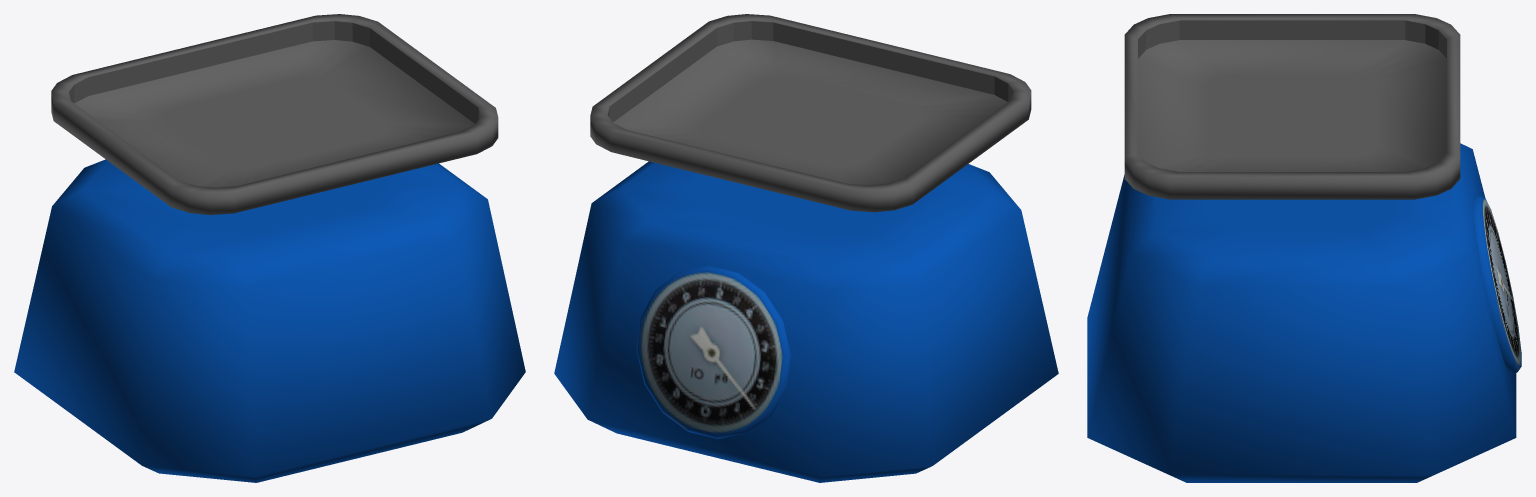
The model's file is Pesa.obj.
3 renders of one model, left to right at view 1: azimuth 30°, elevation 25°; view 2: azimuth 150°, elevation 25°; view 3: azimuth 270°, elevation 25°, orthographic. The views are drawn at different scales.
Parts seen in each view (by area): view 1: Pesa_Cube.011; view 2: Pesa_Cube.011; view 3: Pesa_Cube.011.
Boxes of the visible parts, x1,y1,x2,y2 form: Pesa_Cube.011: (14,14,525,482); Pesa_Cube.011: (554,14,1058,482); Pesa_Cube.011: (1087,14,1521,482).
Bounding box in the file's own units: 0.8274 × 0.5996 × 0.7798.
